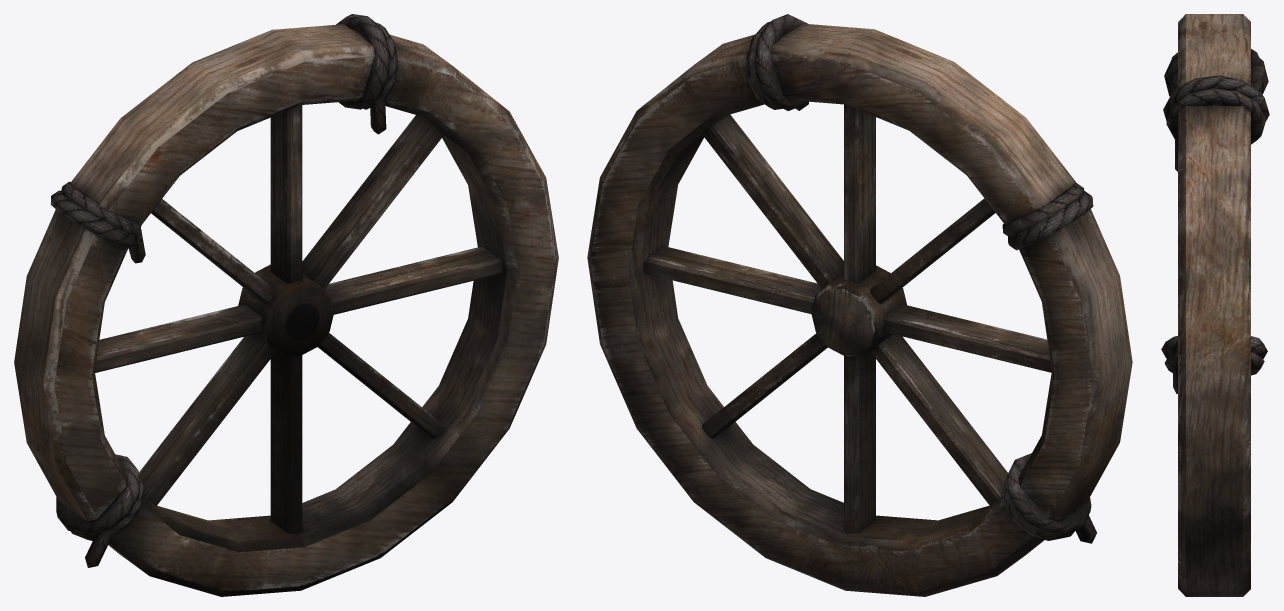
Rendered from debris_wheel.dae.
The picture shows the model from 3 angles, left to right: view 1: azimuth 30°, elevation 25°; view 2: azimuth 150°, elevation 25°; view 3: azimuth 270°, elevation 25°; orthographic projection.
Visible parts, largest first — view 1: polySurface41; view 2: polySurface41; view 3: polySurface41.
Boxes of the visible parts, box(x1,y1,x2,y2) form: polySurface41: box(14, 14, 558, 596); polySurface41: box(587, 14, 1132, 596); polySurface41: box(1161, 14, 1269, 596).
Bounding box in the file's own units: 1.09 × 1.09 × 0.2008.
